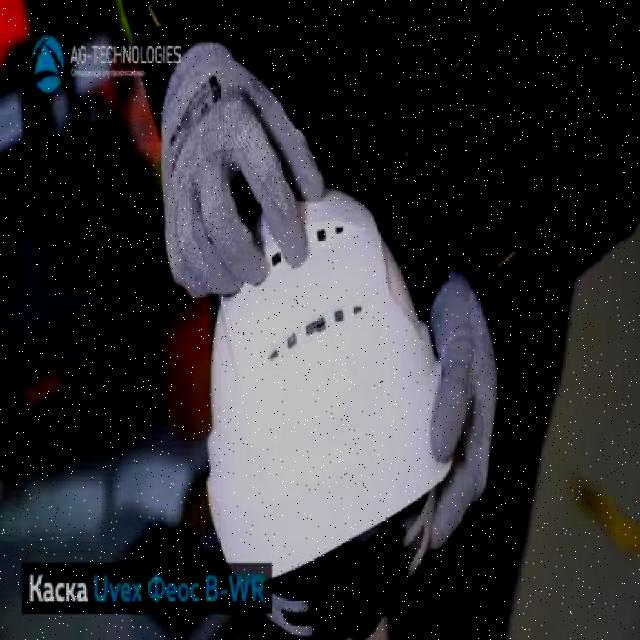Gloves: (160, 38, 326, 300), (399, 267, 499, 555)
Helmet: (205, 182, 458, 593)
